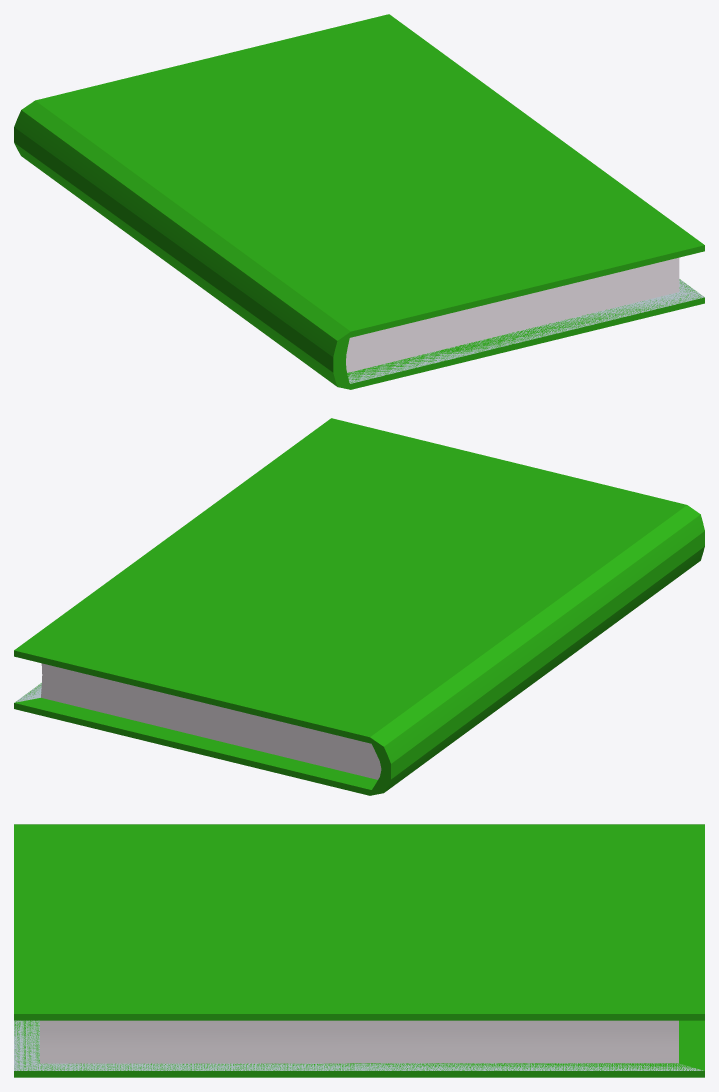
The model's file is book2.fbx.
3 renders of one model, top to bottom at view 1: azimuth 30°, elevation 25°; view 2: azimuth 150°, elevation 25°; view 3: azimuth 270°, elevation 25°, orthographic. The views are drawn at different scales.
Parts seen in each view (by area): view 1: Cube; view 2: Cube; view 3: Cube.
Boxes of the visible parts, x1,y1,x2,y2 form: Cube: [14, 14, 704, 389]; Cube: [14, 418, 704, 795]; Cube: [14, 824, 704, 1077].
Size of the model in its own units: 216 by 32.03 by 314.
